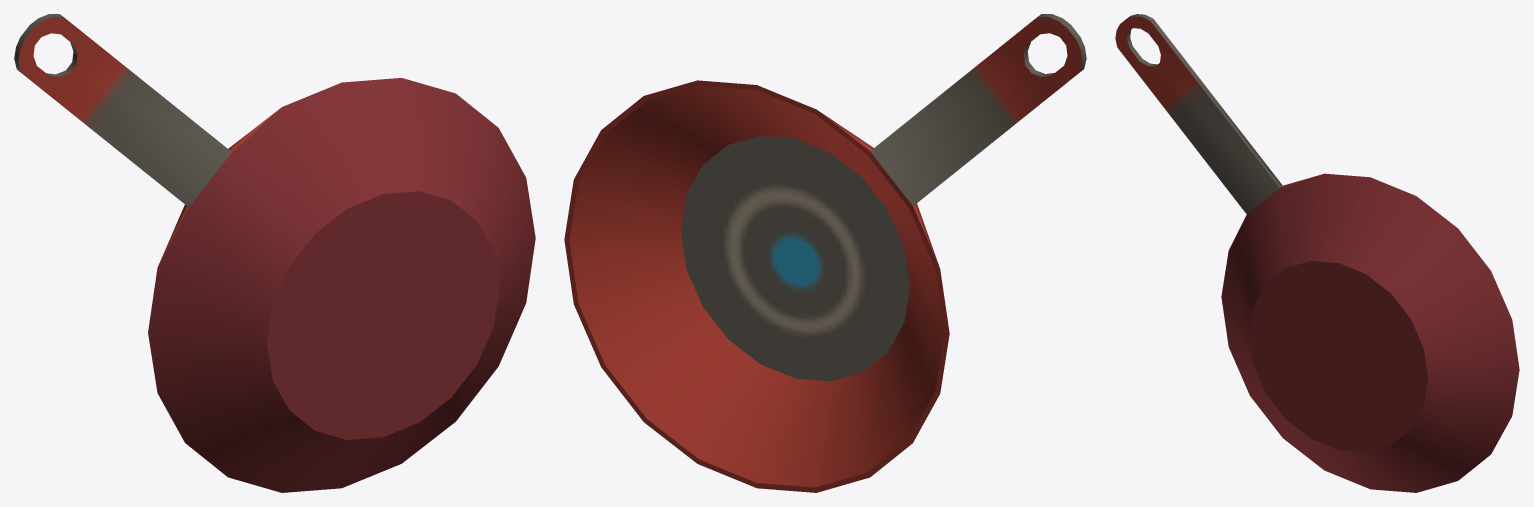
File: back_acc_20.FBX
3 renders of one model, left to right at view 1: azimuth 30°, elevation 25°; view 2: azimuth 150°, elevation 25°; view 3: azimuth 330°, elevation 25°, orthographic. The views are drawn at different scales.
Visible parts, largest first — view 1: back_acc_20; view 2: back_acc_20; view 3: back_acc_20.
Boxes of the visible parts, x1,y1,x2,y2 form: back_acc_20: (14,14,535,492); back_acc_20: (564,14,1086,492); back_acc_20: (1115,14,1519,492).
Bounding box in the file's own units: 24.93 × 24.93 × 3.43.
